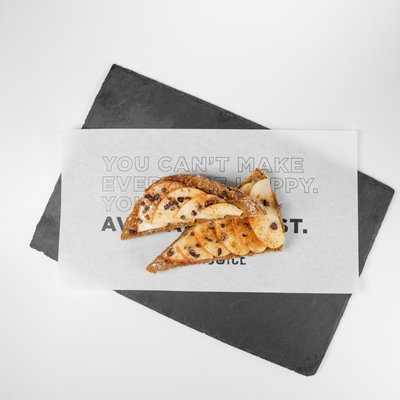sandwich: (120, 169, 287, 273)
